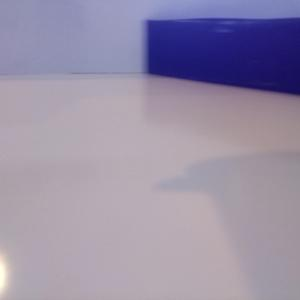zone: (146, 17, 300, 95)
